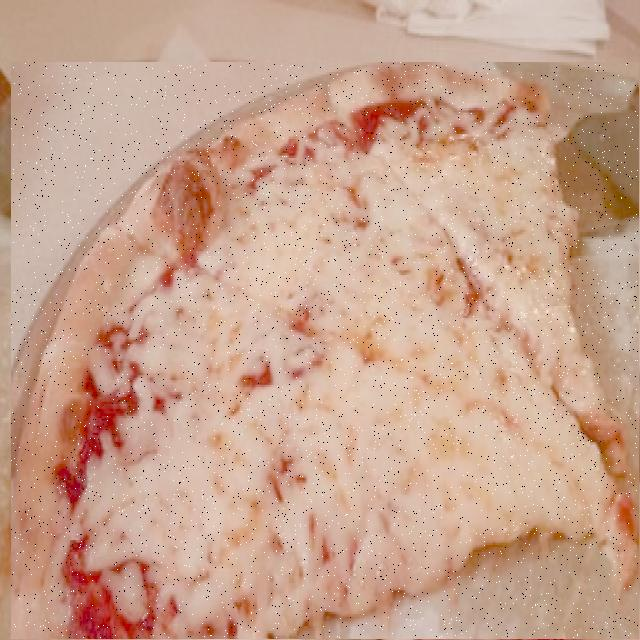Pizza: (12, 63, 638, 638)
